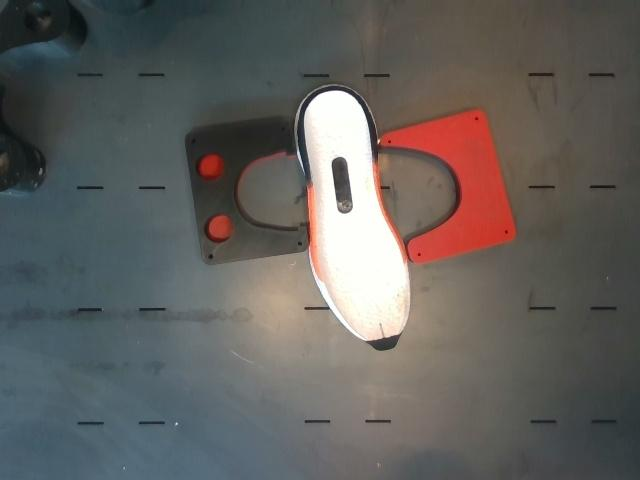shoes: (304, 89, 409, 350)
